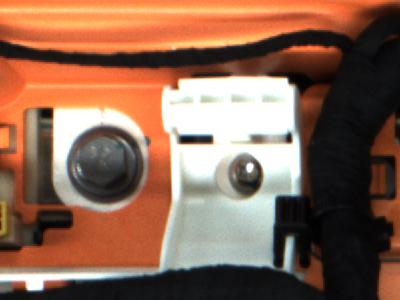nut_b: (59, 120, 149, 207)
